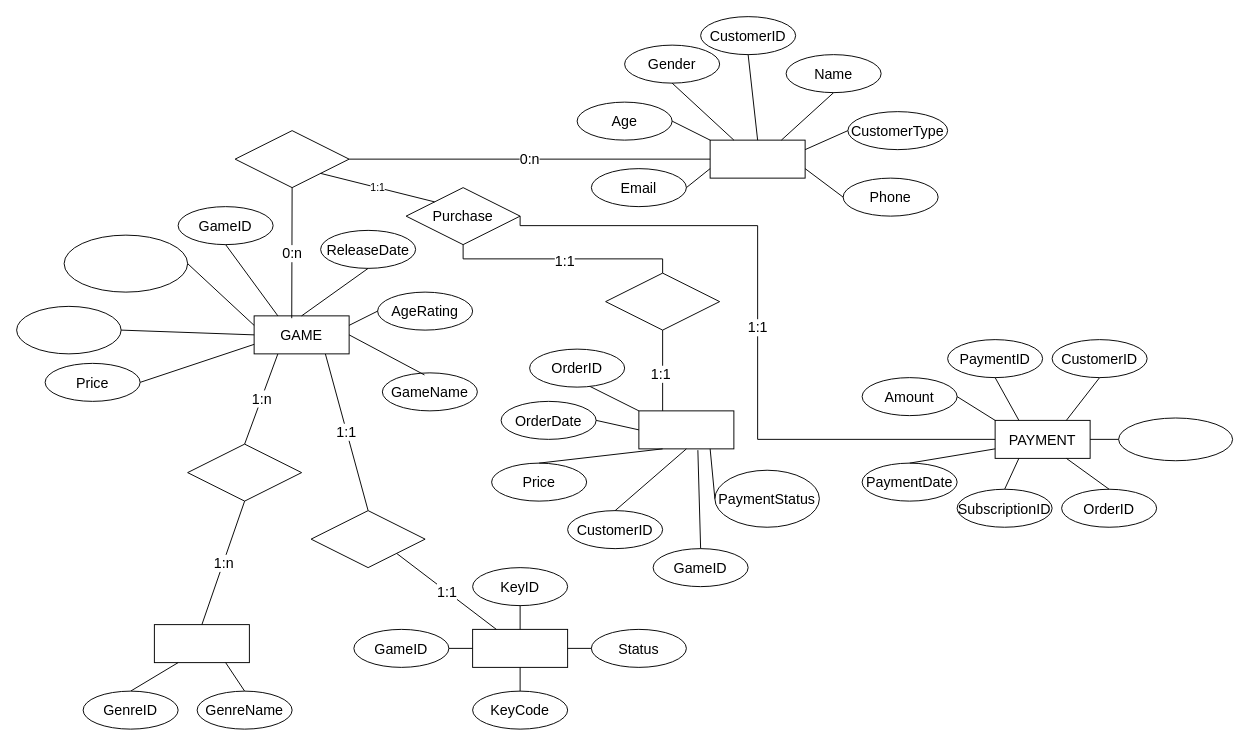
Some shapes in this 1249 by 746 pixel diagram are drawn without their labels. Here are the shapes that lost their labels. From the top down, the centre of each, then its label:
At pixel 291 159: "Choose".
At pixel 757 158: "CUSTOMER".
At pixel 125 263: "DeveloperName".
At pixel 662 301: "Record".
At pixel 68 329: "PublisherName".
At pixel 686 429: "OrderTable".
At pixel 1175 439: "PaymentMethod".
At pixel 244 472: "Belong to".
At pixel 367 539: "Bound by".
At pixel 201 643: "GENRE".
At pixel 520 647: "LICENSEKEY".
